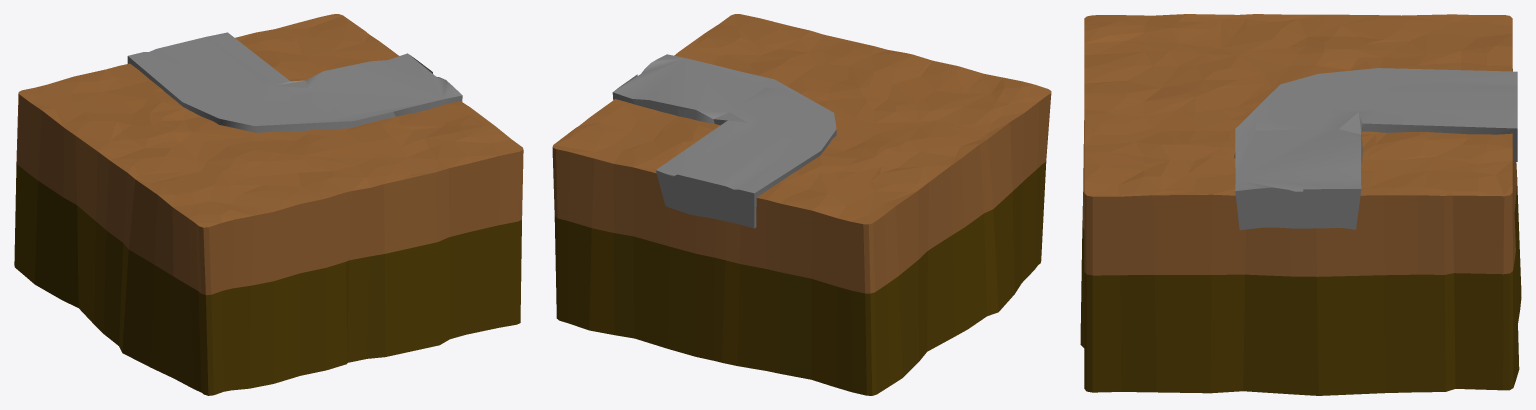
The model's file is roadV.fbx.
3 views of the same model, side by side, from view 1: azimuth 30°, elevation 25°; view 2: azimuth 150°, elevation 25°; view 3: azimuth 270°, elevation 25° (orthographic). The views are drawn at different scales.
Parts seen in each view (by area): view 1: island:ground3, island:street2; view 2: island:ground3, island:street2; view 3: island:ground3, island:street2.
Part boxes in pixels (<box>): island:ground3: <box>14,14,523,395</box>; island:street2: <box>127,32,462,132</box>; island:ground3: <box>552,14,1051,395</box>; island:street2: <box>612,54,836,228</box>; island:ground3: <box>1080,14,1521,395</box>; island:street2: <box>1234,68,1517,230</box>.
Size of the model in its own units: 20.78 by 10.67 by 20.34.
